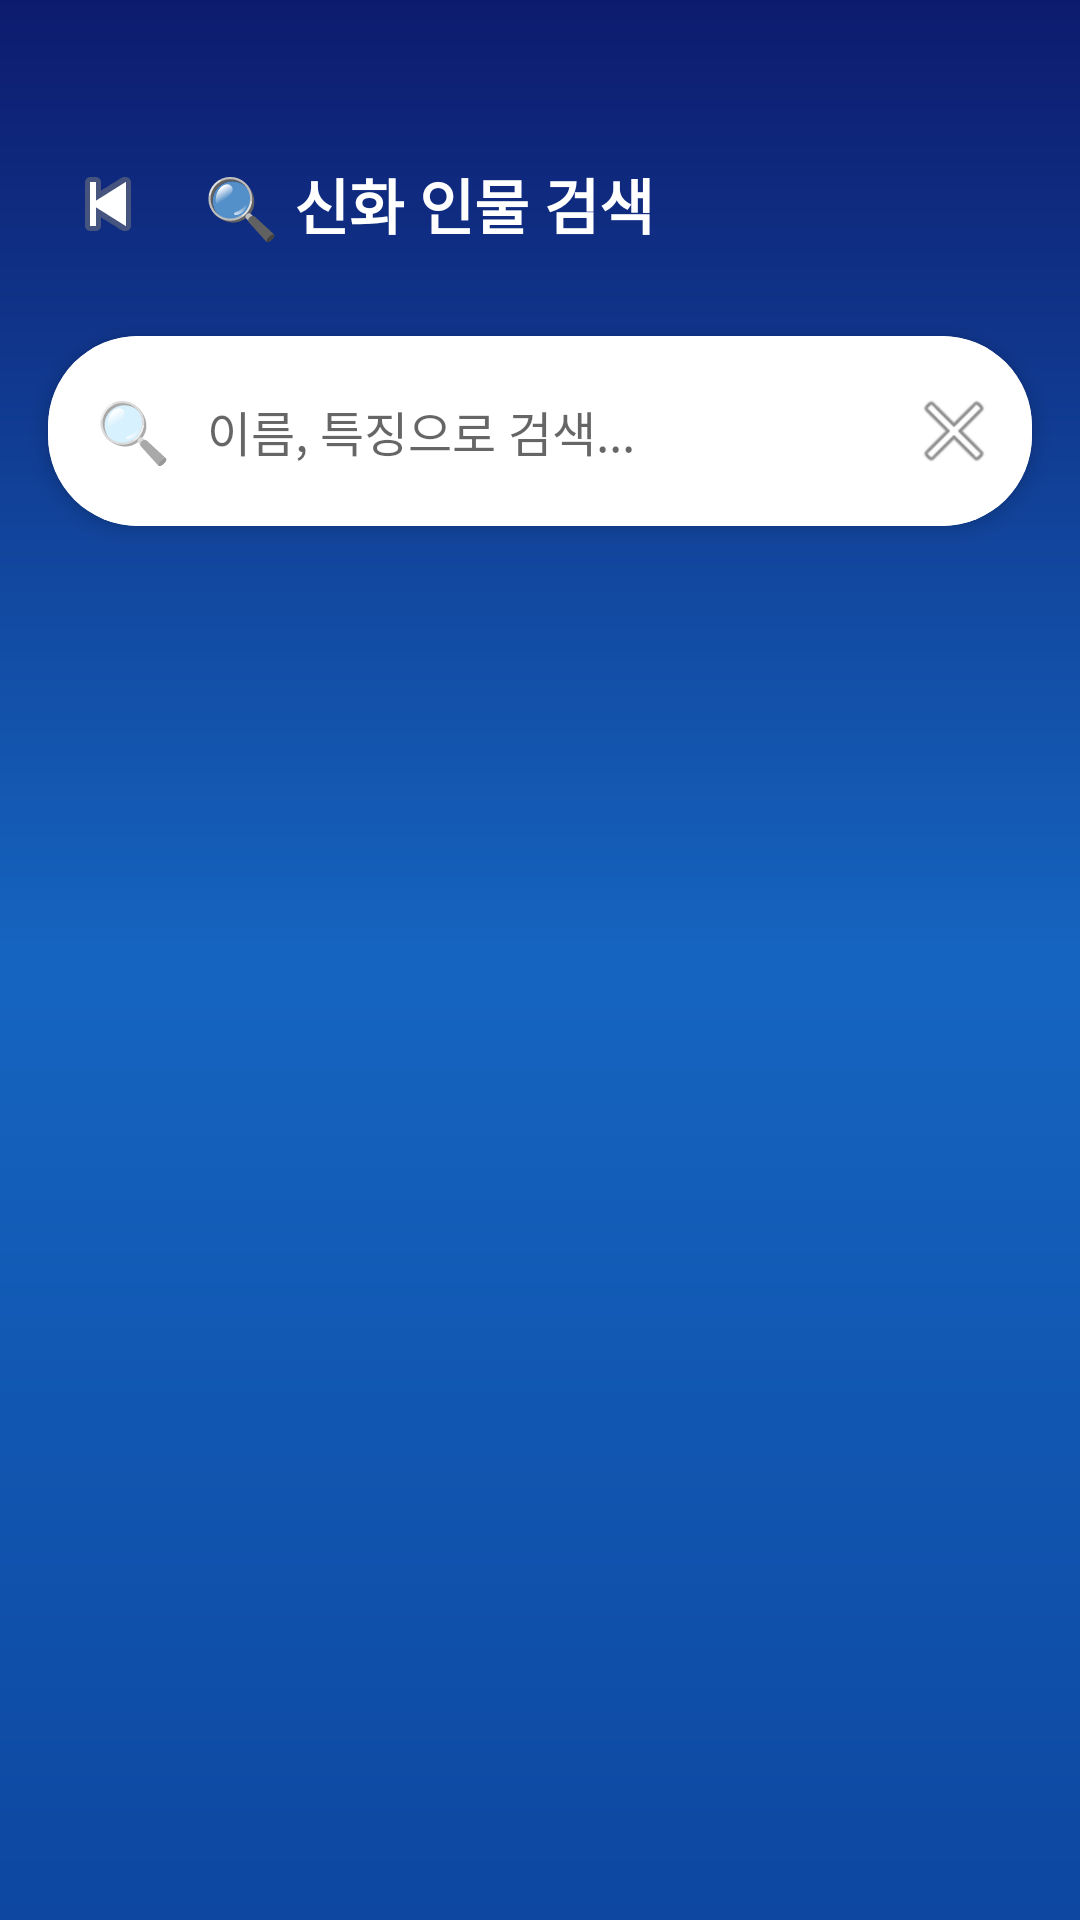

Named icons in this screenshot (1080px x 1920px) and their bounding boxes, (x1, y1, x2, y2):
검색 지우기: (924, 401, 984, 461)
뒤로: (85, 177, 131, 231)
